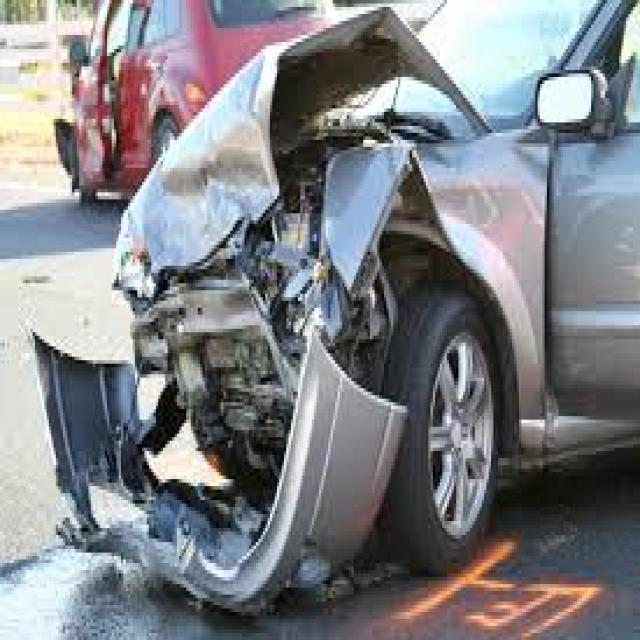Severe Damage: (25, 95, 595, 608)
